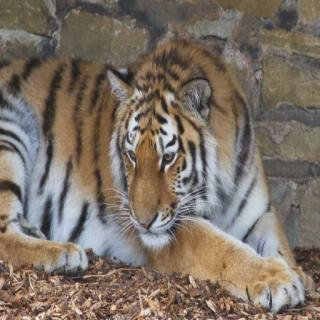Tiger: (0, 27, 318, 306)
